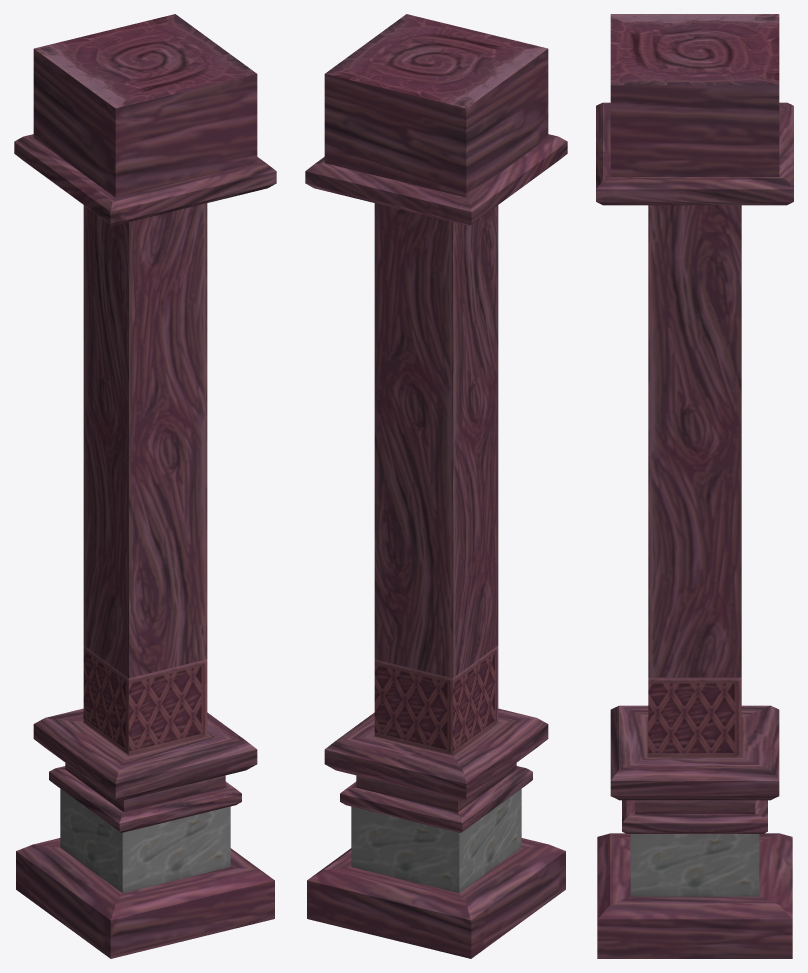
Rendered from MOD_EntrancePillar.fbx.
3 views of the same model, side by side, from view 1: azimuth 30°, elevation 25°; view 2: azimuth 150°, elevation 25°; view 3: azimuth 270°, elevation 25° (orthographic). The views are drawn at different scales.
Parts seen in each view (by area): view 1: MOD_EntrancePillar; view 2: MOD_EntrancePillar; view 3: MOD_EntrancePillar.
Part boxes in pixels (bbox=[...]): MOD_EntrancePillar: bbox=[14, 14, 276, 958]; MOD_EntrancePillar: bbox=[305, 14, 567, 958]; MOD_EntrancePillar: bbox=[596, 14, 793, 958].
Size of the model in its own units: 45.99 by 223 by 45.99.
Materials: 1 (1 with a texture image).
